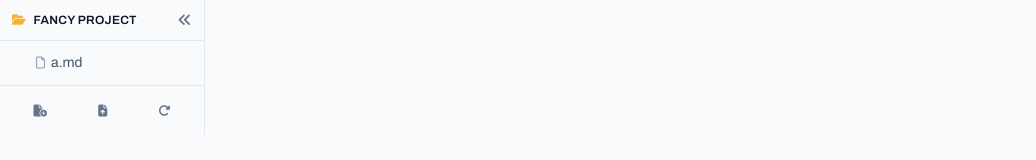
Test case: ProjectChatSplit › switching conversation closes the editor overlay
Click the element with test id "tree-node-a.md".
click(59, 62)  # box [36,55,82,70]
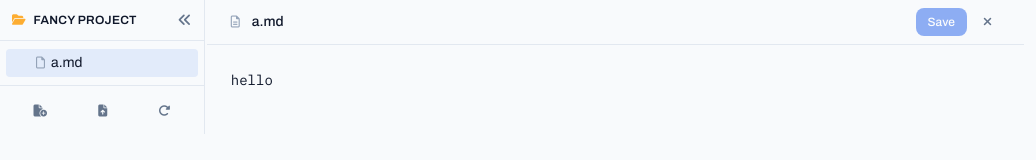
Now the element with test id "editor-overlay" is shown
